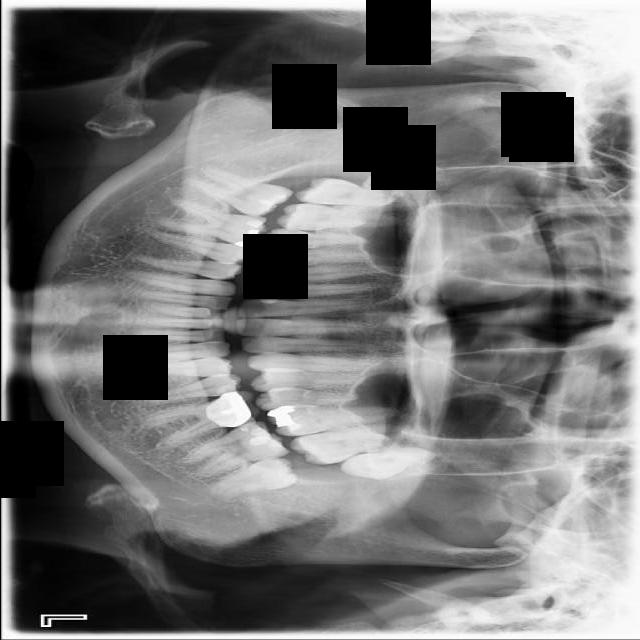52: (220, 415, 290, 470), (228, 173, 296, 228), (264, 397, 330, 442), (200, 390, 261, 429), (219, 215, 268, 248), (237, 299, 293, 318), (244, 282, 295, 300)
73: (14, 622, 22, 631)
BioHorizons Implant: (286, 421, 419, 469)
BioLife Implant: (337, 441, 438, 487)
Biomet 3i Implant: (202, 451, 299, 508)
Blue Sky Bio Implant: (180, 414, 290, 479)
Caries: (293, 176, 418, 212)
Implant: (183, 162, 294, 226)
